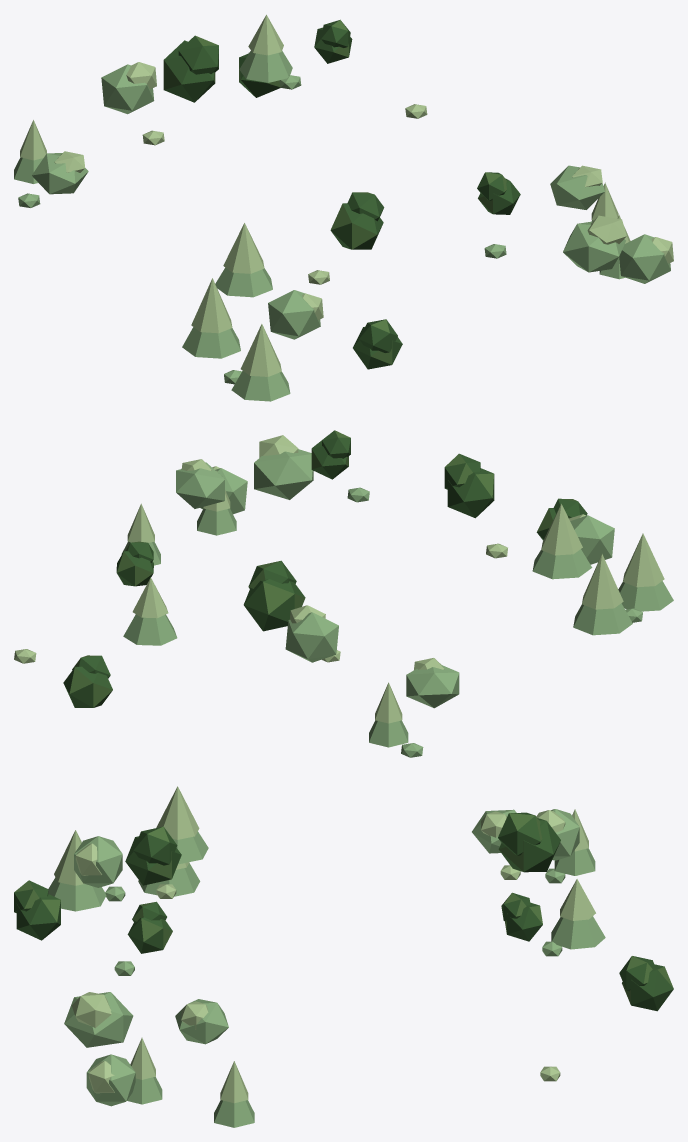
File: path_cliff_passage_wind_canopies.fbx
The picture shows the model from 3 angles, top to bottom: view 1: azimuth 30°, elevation 25°; view 2: azimuth 150°, elevation 25°; view 3: azimuth 270°, elevation 25°; orthographic projection. The views are drawn at different scales.
Parts seen in each view (by area): view 1: chunk_path_cliff_passage__finish_tree_05_canopy, chunk_path_cliff_passage__finish_tree_03_canopy, chunk_path_cliff_passage__tree_canopy_15, chunk_path_cliff_passage__tree_canopy_27, chunk_path_cliff_passage__tree_canopy_36, chunk_path_cliff_passage__finish_tree_01_canopy, chunk_path_cliff_passage__tree_canopy_17, chunk_path_cliff_passage__tree_canopy_31, chunk_path_cliff_passage__tree_canopy_07, chunk_path_cliff_passage__tree_canopy_03, chunk_path_cliff_passage__finish_tree_04_canopy, chunk_path_cliff_passage__tree_canopy_06 (+11 smaller); view 2: chunk_path_cliff_passage__finish_tree_05_canopy, chunk_path_cliff_passage__finish_tree_03_canopy, chunk_path_cliff_passage__tree_canopy_27, chunk_path_cliff_passage__tree_canopy_17, chunk_path_cliff_passage__finish_tree_02_canopy, chunk_path_cliff_passage__tree_canopy_07, chunk_path_cliff_passage__tree_canopy_31, chunk_path_cliff_passage__finish_tree_04_canopy, chunk_path_cliff_passage__tree_canopy_15, chunk_path_cliff_passage__tree_canopy_03, chunk_path_cliff_passage__finish_tree_06_canopy, chunk_path_cliff_passage__tree_canopy_02 (+13 smaller); view 3: chunk_path_cliff_passage__finish_tree_05_canopy, chunk_path_cliff_passage__finish_tree_03_canopy, chunk_path_cliff_passage__finish_tree_01_canopy, chunk_path_cliff_passage__finish_tree_02_canopy, chunk_path_cliff_passage__tree_canopy_27, chunk_path_cliff_passage__finish_tree_04_canopy, chunk_path_cliff_passage__finish_tree_06_canopy, chunk_path_cliff_passage__tree_canopy_15, chunk_path_cliff_passage__tree_canopy_36, chunk_path_cliff_passage__tree_canopy_24, chunk_path_cliff_passage__tree_canopy_31, chunk_path_cliff_passage__tree_canopy_06 (+15 smaller).
Part boxes in pixels (x1=…): chunk_path_cliff_passage__finish_tree_05_canopy: x1=163, y1=35, x2=218, y2=102; chunk_path_cliff_passage__finish_tree_03_canopy: x1=330, y1=192, x2=384, y2=249; chunk_path_cliff_passage__tree_canopy_15: x1=268, y1=290, x2=320, y2=339; chunk_path_cliff_passage__tree_canopy_27: x1=563, y1=221, x2=625, y2=272; chunk_path_cliff_passage__tree_canopy_36: x1=619, y1=234, x2=670, y2=283; chunk_path_cliff_passage__finish_tree_01_canopy: x1=353, y1=319, x2=402, y2=369; chunk_path_cliff_passage__tree_canopy_17: x1=101, y1=64, x2=154, y2=114; chunk_path_cliff_passage__tree_canopy_31: x1=550, y1=165, x2=604, y2=209; chunk_path_cliff_passage__tree_canopy_07: x1=32, y1=153, x2=88, y2=194; chunk_path_cliff_passage__tree_canopy_03: x1=182, y1=327, x2=240, y2=358; chunk_path_cliff_passage__finish_tree_04_canopy: x1=477, y1=172, x2=520, y2=214; chunk_path_cliff_passage__tree_canopy_06: x1=231, y1=371, x2=290, y2=401; chunk_path_cliff_passage__finish_tree_05_canopy: x1=243, y1=560, x2=305, y2=631; chunk_path_cliff_passage__finish_tree_03_canopy: x1=444, y1=453, x2=494, y2=518; chunk_path_cliff_passage__tree_canopy_27: x1=254, y1=449, x2=313, y2=499; chunk_path_cliff_passage__tree_canopy_17: x1=285, y1=612, x2=338, y2=662; chunk_path_cliff_passage__finish_tree_02_canopy: x1=63, y1=655, x2=112, y2=707; chunk_path_cliff_passage__tree_canopy_07: x1=406, y1=665, x2=459, y2=708; chunk_path_cliff_passage__tree_canopy_31: x1=176, y1=462, x2=224, y2=508; chunk_path_cliff_passage__finish_tree_04_canopy: x1=311, y1=430, x2=350, y2=479; chunk_path_cliff_passage__tree_canopy_15: x1=570, y1=515, x2=614, y2=564; chunk_path_cliff_passage__tree_canopy_03: x1=573, y1=603, x2=632, y2=635; chunk_path_cliff_passage__finish_tree_06_canopy: x1=116, y1=541, x2=153, y2=586; chunk_path_cliff_passage__tree_canopy_02: x1=582, y1=554, x2=623, y2=609; chunk_path_cliff_passage__finish_tree_05_canopy: x1=498, y1=812, x2=560, y2=872; chunk_path_cliff_passage__finish_tree_03_canopy: x1=125, y1=826, x2=181, y2=885; chunk_path_cliff_passage__finish_tree_01_canopy: x1=14, y1=880, x2=60, y2=940; chunk_path_cliff_passage__finish_tree_02_canopy: x1=619, y1=956, x2=673, y2=1011; chunk_path_cliff_passage__tree_canopy_27: x1=64, y1=992, x2=133, y2=1047; chunk_path_cliff_passage__finish_tree_04_canopy: x1=127, y1=901, x2=172, y2=953; chunk_path_cliff_passage__finish_tree_06_canopy: x1=501, y1=892, x2=542, y2=941; chunk_path_cliff_passage__tree_canopy_15: x1=74, y1=836, x2=122, y2=887; chunk_path_cliff_passage__tree_canopy_36: x1=86, y1=1054, x2=135, y2=1106; chunk_path_cliff_passage__tree_canopy_24: x1=551, y1=916, x2=605, y2=949; chunk_path_cliff_passage__tree_canopy_31: x1=175, y1=999, x2=228, y2=1044; chunk_path_cliff_passage__tree_canopy_06: x1=48, y1=877, x2=106, y2=911.
Size of the model in its own units: 176 by 58.17 by 207.
